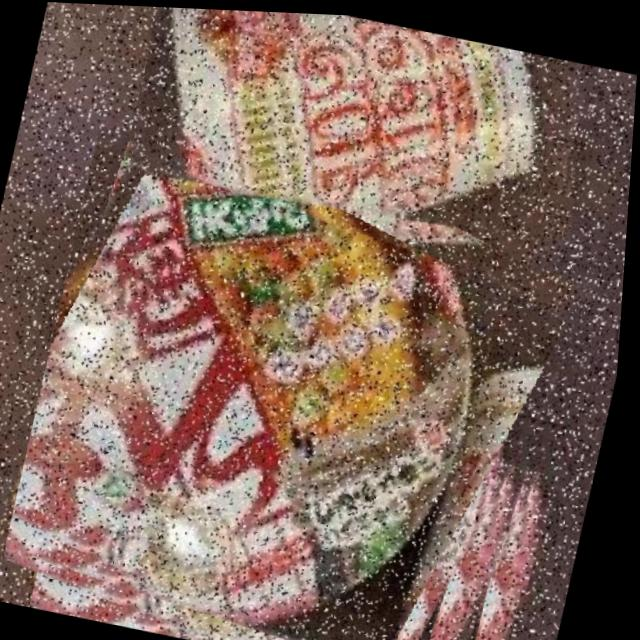Miscellaneous: (0, 122, 615, 640), (113, 4, 605, 290)
